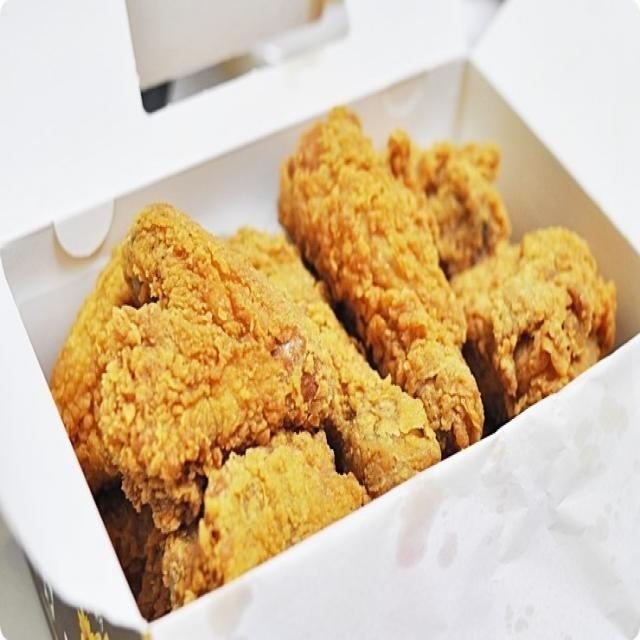Frango: (45, 94, 620, 573)
